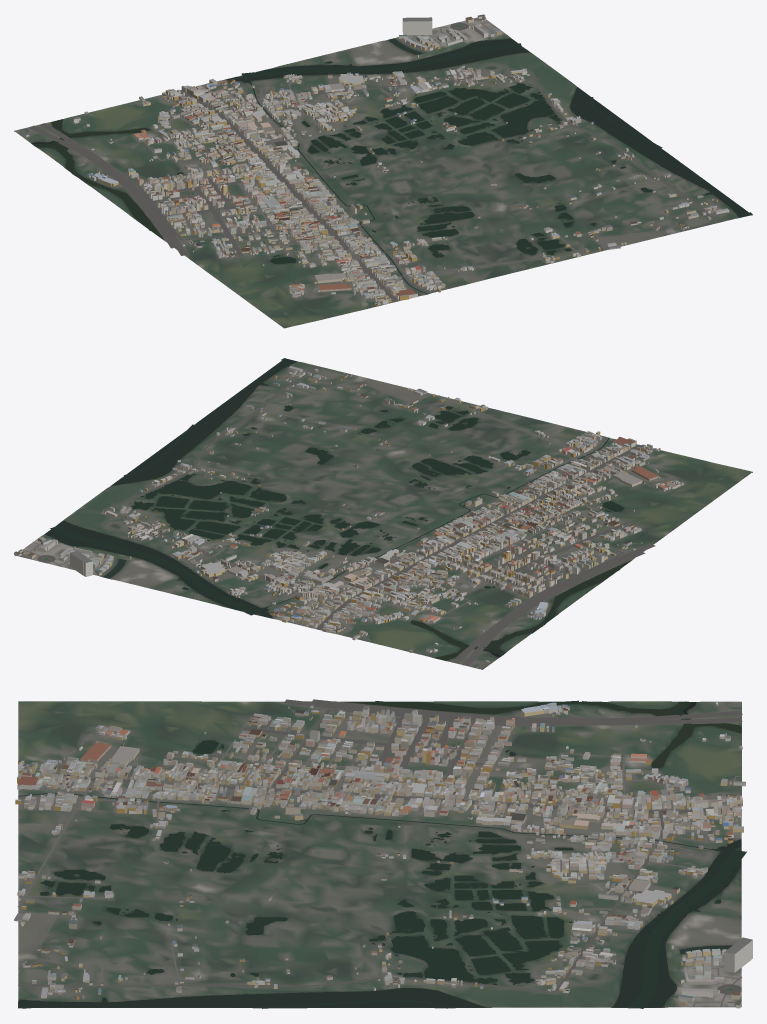
3 renders of one model, top to bottom at view 1: azimuth 30°, elevation 25°; view 2: azimuth 150°, elevation 25°; view 3: azimuth 270°, elevation 25°, orthographic. The views are drawn at different scales.
Visible parts, largest first — view 1: ground, buildings, water, roads; view 2: ground, buildings, water, roads; view 3: ground, buildings, water, roads.
Boxes of the visible parts, <box> form: ground: <box>14,17,752,328</box>; buildings: <box>25,14,729,306</box>; water: <box>31,38,752,294</box>; roads: <box>17,22,728,302</box>; ground: <box>14,360,752,669</box>; buildings: <box>14,366,683,662</box>; water: <box>45,358,631,660</box>; roads: <box>23,366,677,668</box>; ground: <box>18,701,741,1008</box>; buildings: <box>14,702,752,1008</box>; water: <box>18,700,746,1008</box>; roads: <box>18,699,742,1007</box>.
Bounding box in the file's own units: 1415 × 45.32 × 1430.
